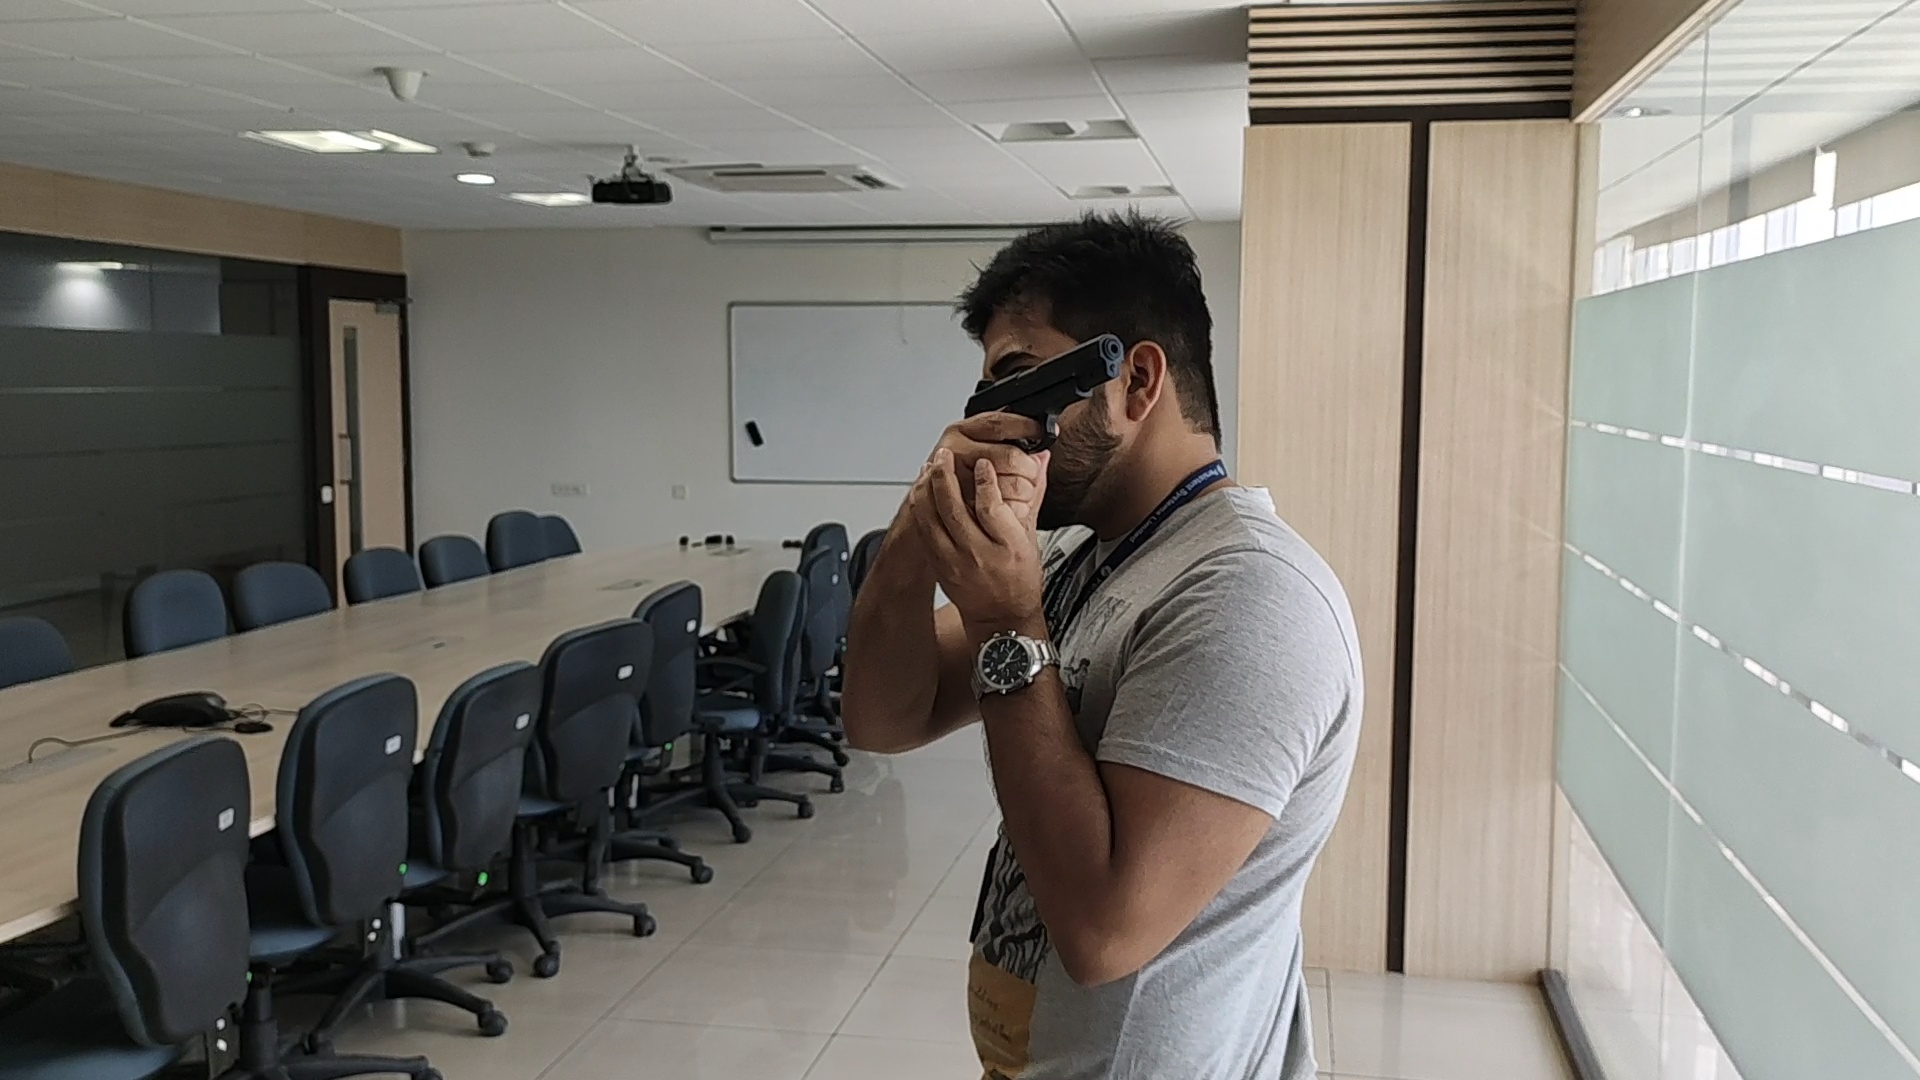gun: (963, 335, 1120, 417)
